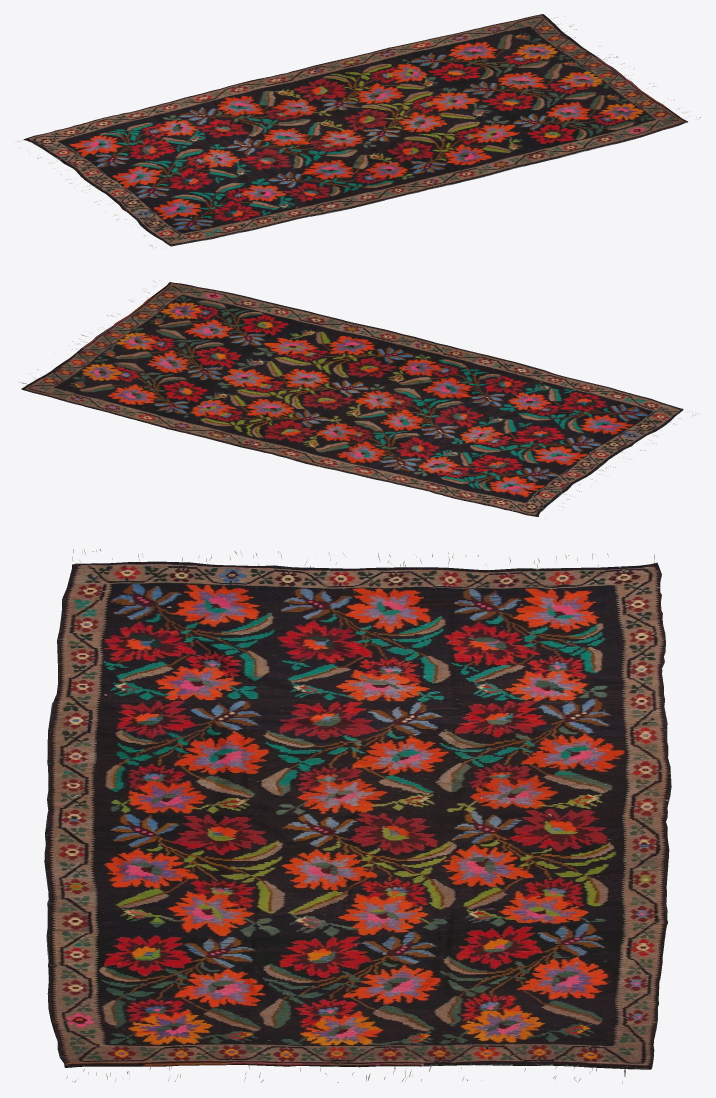
File: bess-arabian-gallery-kilim-i-runner.glb
3 renders of one model, top to bottom at view 1: azimuth 30°, elevation 25°; view 2: azimuth 150°, elevation 25°; view 3: azimuth 270°, elevation 25°, orthographic. The views are drawn at different scales.
Parts seen in each view (by area): view 1: Bess Arabian Gallery Kilim I Runner _2; view 2: Bess Arabian Gallery Kilim I Runner _2; view 3: Bess Arabian Gallery Kilim I Runner _2.
Boxes of the visible parts, box(x1,y1,x2,y2) form: Bess Arabian Gallery Kilim I Runner _2: box(23, 14, 687, 246); Bess Arabian Gallery Kilim I Runner _2: box(21, 282, 683, 516); Bess Arabian Gallery Kilim I Runner _2: box(44, 561, 671, 1069).
Size of the model in its own units: 4.21 by 0.0115 by 2.08.
2 materials, 1 textured.
